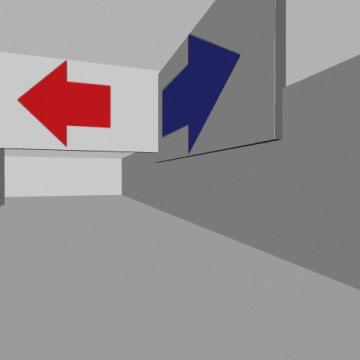blue_right: (163, 34, 240, 152)
red_left: (19, 61, 110, 146)
